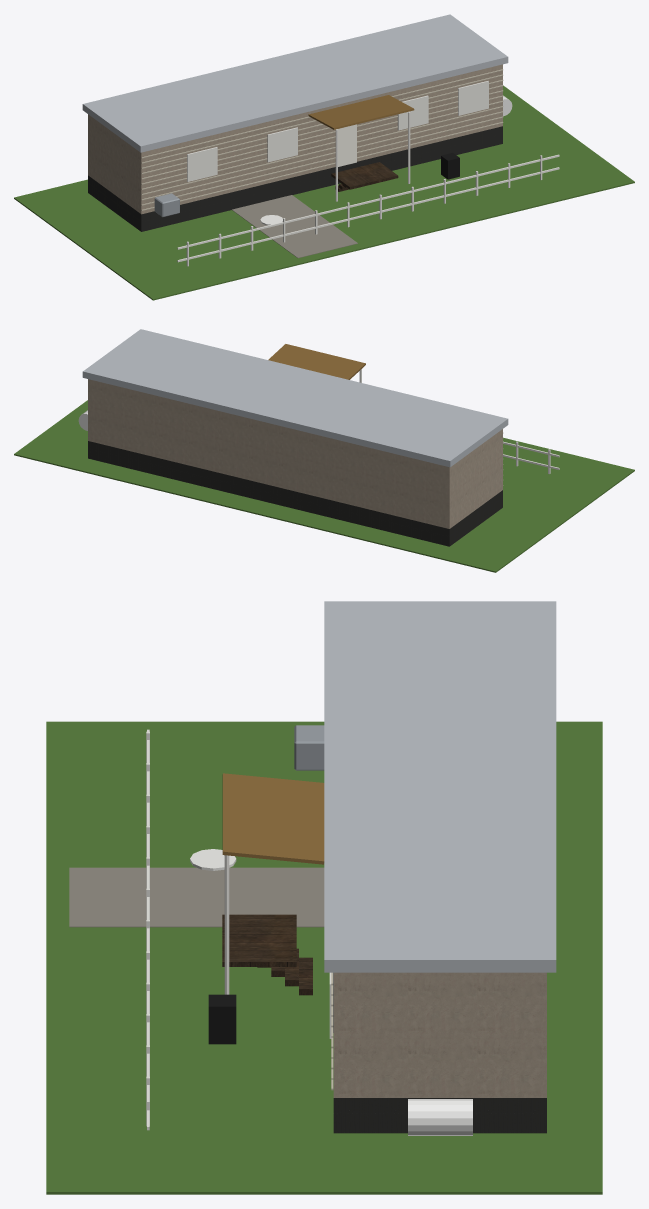
Rendered from OT_Trailer_A.glb.
3 views of the same model, one above another, from view 1: azimuth 30°, elevation 25°; view 2: azimuth 150°, elevation 25°; view 3: azimuth 270°, elevation 25° (orthographic). The views are drawn at different scales.
Visible parts, largest first — view 1: OT_Trailer_A_Lawn__567d3a, OT_Trailer_A_RoofMetal__b9bec4, OT_Trailer_A_Siding, OT_Trailer_A_TrimWhite__ecebe6, OT_Trailer_A_Corrugated, OT_Trailer_A_LapShadowT__c8c2b0, OT_Trailer_A_Gravel__8f8a80, OT_Trailer_A_Awning__8a6a3a, OT_Trailer_A_Wood, OT_Trailer_A_TrailerDoor__f0eee6, OT_Trailer_A_SteelGrey__9aa0a6, OT_Trailer_A_Grill__1a1a1a; view 2: OT_Trailer_A_Siding, OT_Trailer_A_RoofMetal__b9bec4, OT_Trailer_A_Lawn__567d3a, OT_Trailer_A_Corrugated, OT_Trailer_A_Awning__8a6a3a, OT_Trailer_A_TrimWhite__ecebe6; view 3: OT_Trailer_A_Lawn__567d3a, OT_Trailer_A_RoofMetal__b9bec4, OT_Trailer_A_Siding, OT_Trailer_A_Gravel__8f8a80, OT_Trailer_A_Awning__8a6a3a, OT_Trailer_A_Corrugated, OT_Trailer_A_Wood, OT_Trailer_A_TrimWhite__ecebe6, OT_Trailer_A_Propane__f0f0ee, OT_Trailer_A_Grill__1a1a1a, OT_Trailer_A_SteelGrey__9aa0a6.
Boxes of the visible parts, bbox=[...] form: OT_Trailer_A_Lawn__567d3a: bbox=[14, 85, 634, 300]; OT_Trailer_A_RoofMetal__b9bec4: bbox=[82, 14, 508, 152]; OT_Trailer_A_Siding: bbox=[88, 64, 502, 214]; OT_Trailer_A_TrimWhite__ecebe6: bbox=[177, 81, 559, 266]; OT_Trailer_A_Corrugated: bbox=[88, 126, 502, 231]; OT_Trailer_A_LapShadowT__c8c2b0: bbox=[141, 69, 503, 210]; OT_Trailer_A_Gravel__8f8a80: bbox=[232, 195, 357, 258]; OT_Trailer_A_Awning__8a6a3a: bbox=[308, 95, 414, 129]; OT_Trailer_A_Wood: bbox=[331, 162, 398, 191]; OT_Trailer_A_TrailerDoor__f0eee6: bbox=[337, 124, 356, 166]; OT_Trailer_A_SteelGrey__9aa0a6: bbox=[154, 193, 179, 217]; OT_Trailer_A_Grill__1a1a1a: bbox=[441, 152, 459, 179]; OT_Trailer_A_Siding: bbox=[88, 379, 502, 528]; OT_Trailer_A_RoofMetal__b9bec4: bbox=[82, 329, 508, 467]; OT_Trailer_A_Lawn__567d3a: bbox=[14, 400, 634, 572]; OT_Trailer_A_Corrugated: bbox=[88, 441, 502, 546]; OT_Trailer_A_Awning__8a6a3a: bbox=[268, 344, 365, 379]; OT_Trailer_A_TrimWhite__ecebe6: bbox=[359, 369, 559, 474]; OT_Trailer_A_Lawn__567d3a: bbox=[46, 721, 602, 1194]; OT_Trailer_A_RoofMetal__b9bec4: bbox=[324, 601, 556, 972]; OT_Trailer_A_Siding: bbox=[333, 972, 546, 1097]; OT_Trailer_A_Gravel__8f8a80: bbox=[69, 867, 324, 927]; OT_Trailer_A_Awning__8a6a3a: bbox=[222, 773, 324, 864]; OT_Trailer_A_Corrugated: bbox=[333, 1098, 546, 1133]; OT_Trailer_A_Wood: bbox=[222, 914, 312, 995]; OT_Trailer_A_TrimWhite__ecebe6: bbox=[146, 729, 331, 1130]; OT_Trailer_A_Propane__f0f0ee: bbox=[408, 1099, 472, 1135]; OT_Trailer_A_Grill__1a1a1a: bbox=[208, 994, 236, 1044]; OT_Trailer_A_SteelGrey__9aa0a6: bbox=[294, 725, 324, 770].
Size of the model in its own units: 24 by 4.25 by 12.
15 materials, 3 textured.
